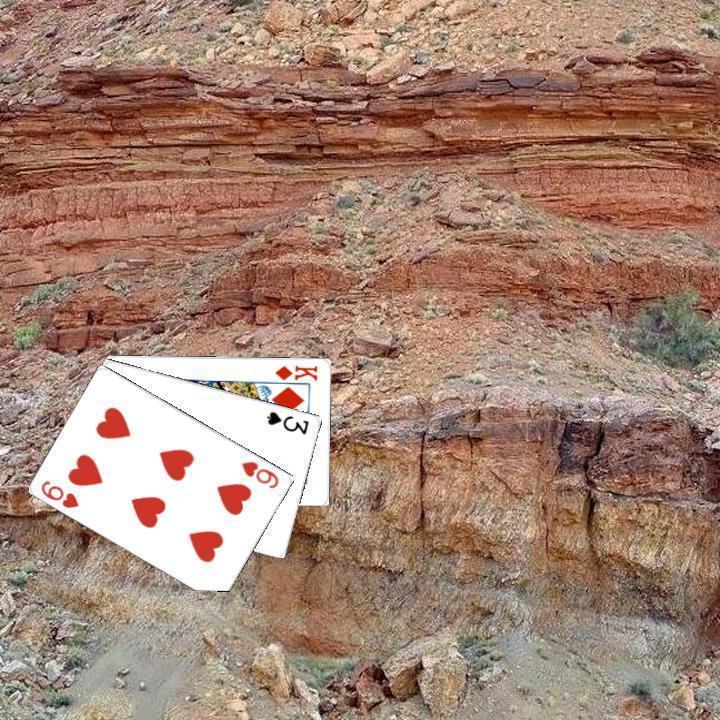3: (263, 407, 311, 436)
6: (37, 476, 81, 510), (237, 457, 281, 490)
K: (271, 361, 320, 382)
